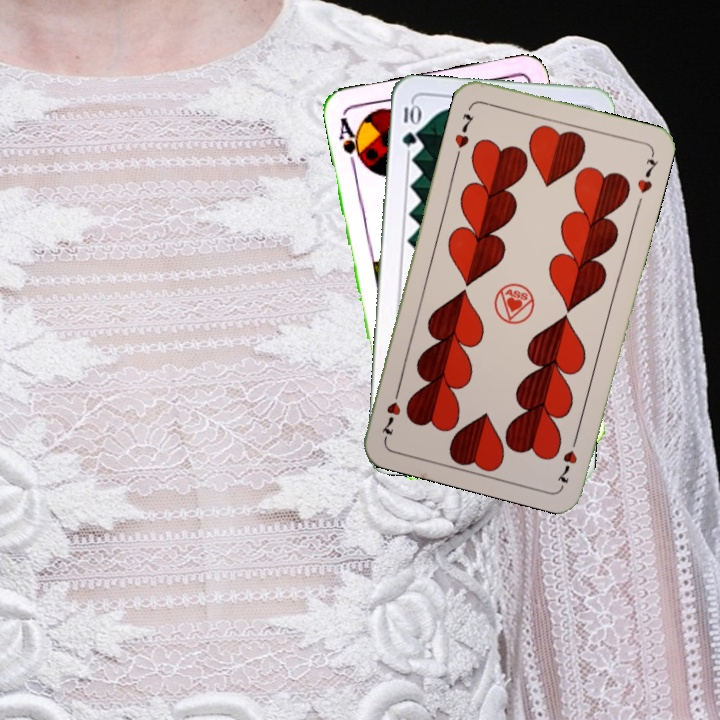G10: (398, 100, 420, 150)
H7: (553, 430, 581, 488), (450, 109, 477, 151)
SA: (334, 113, 367, 170)
